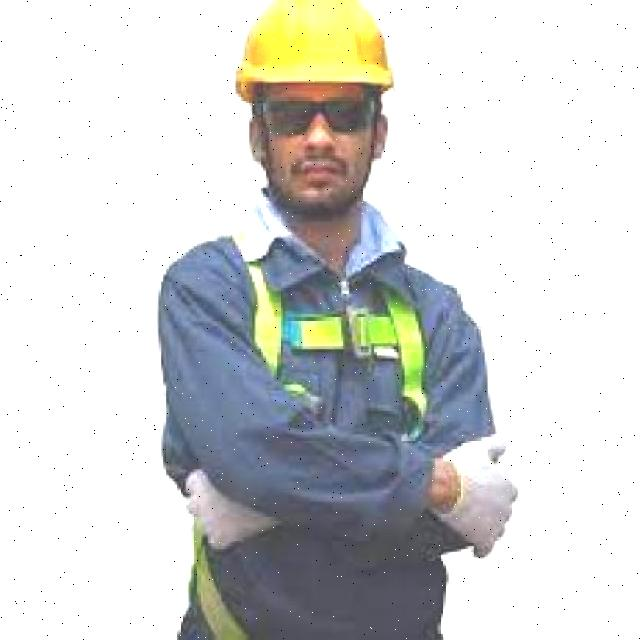Gloves: (444, 431, 527, 558), (184, 464, 282, 550)
Helmet: (230, 0, 398, 94)
